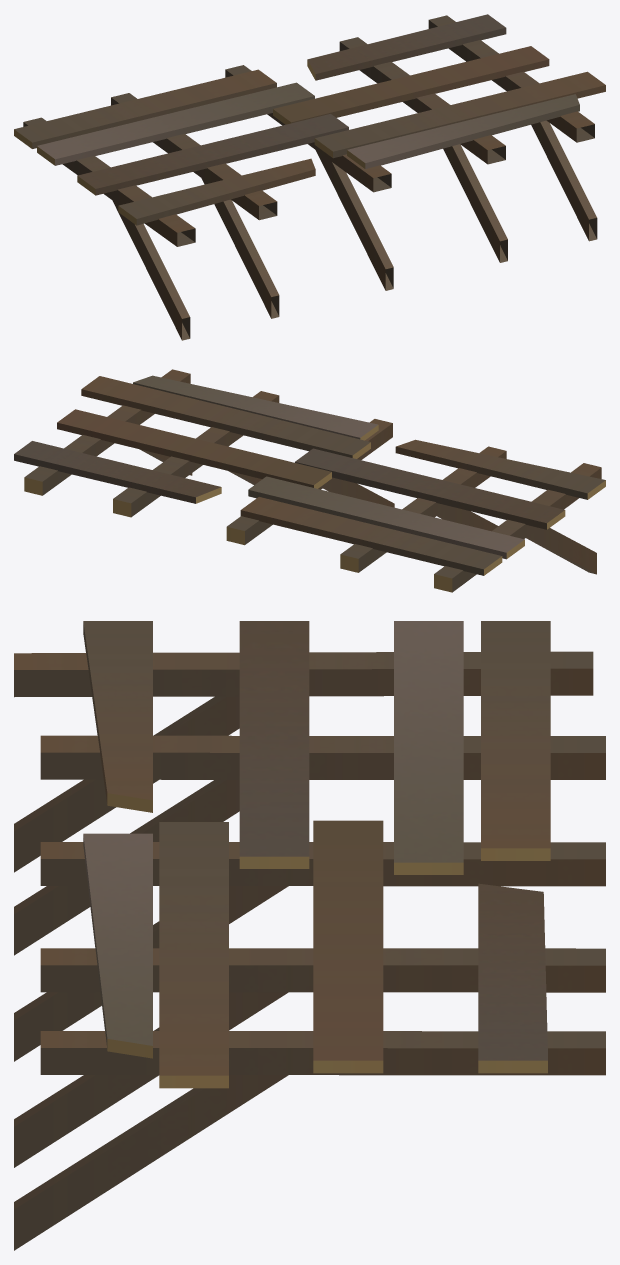
The model's file is Shed_1B_LOD1.fbx.
3 renders of one model, top to bottom at view 1: azimuth 30°, elevation 25°; view 2: azimuth 150°, elevation 25°; view 3: azimuth 270°, elevation 25°, orthographic. The views are drawn at different scales.
Parts seen in each view (by area): view 1: polySurface9855; view 2: polySurface9855; view 3: polySurface9855.
Boxes of the visible parts, box(x1,y1,x2,y2) form: polySurface9855: box(14, 14, 605, 340); polySurface9855: box(14, 369, 605, 592); polySurface9855: box(14, 621, 605, 1250).
Bounding box in the file's own units: 428 × 96.1 × 236.
